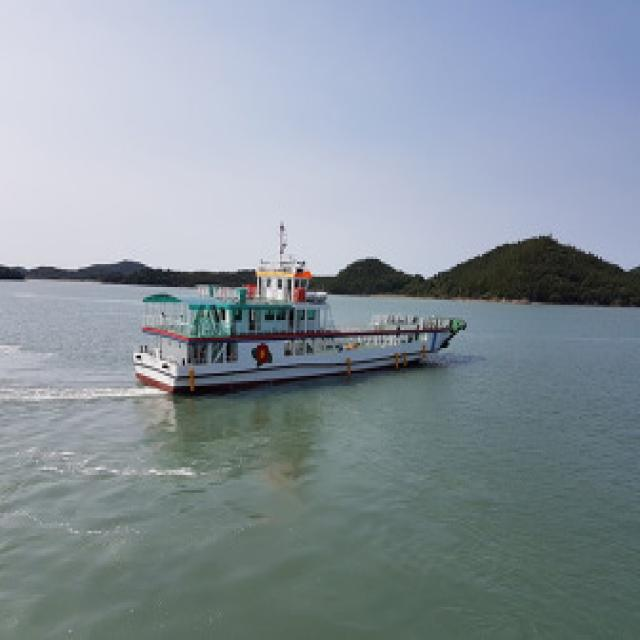passenger ship: (128, 242, 454, 396)
